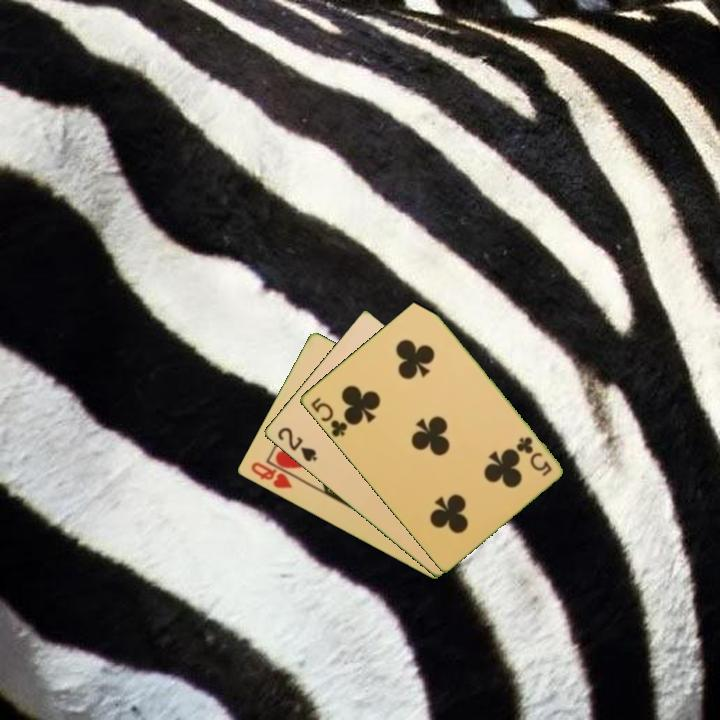2s: (273, 424, 320, 465)
5c: (307, 393, 352, 440), (513, 433, 554, 479)
Qh: (247, 458, 295, 492)
